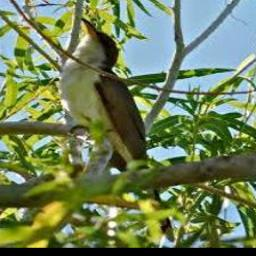Cuckoo: (59, 19, 176, 242)
